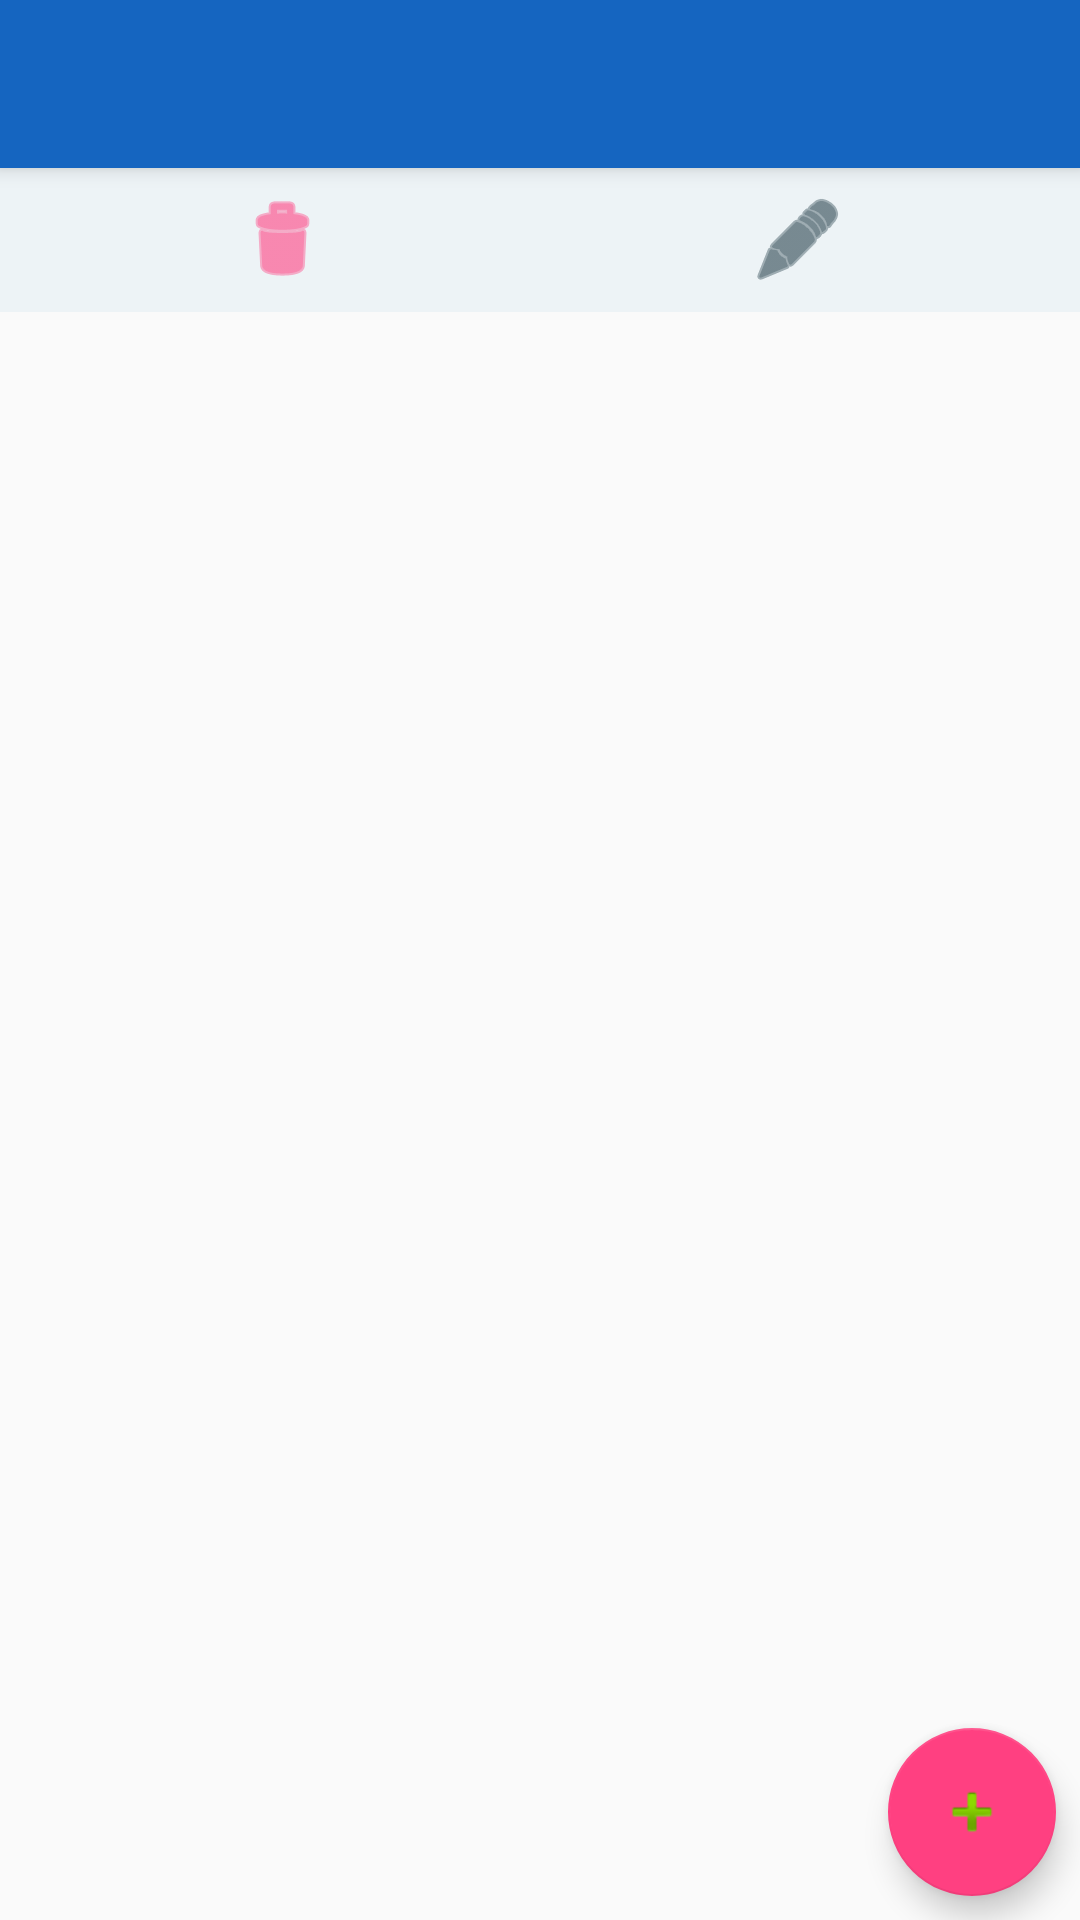

Icons on this 1080 x 1920 Android screen, each with the point to tap as (x,y):
add: (972,1812)
delete: (282,238)
edit: (797,239)
